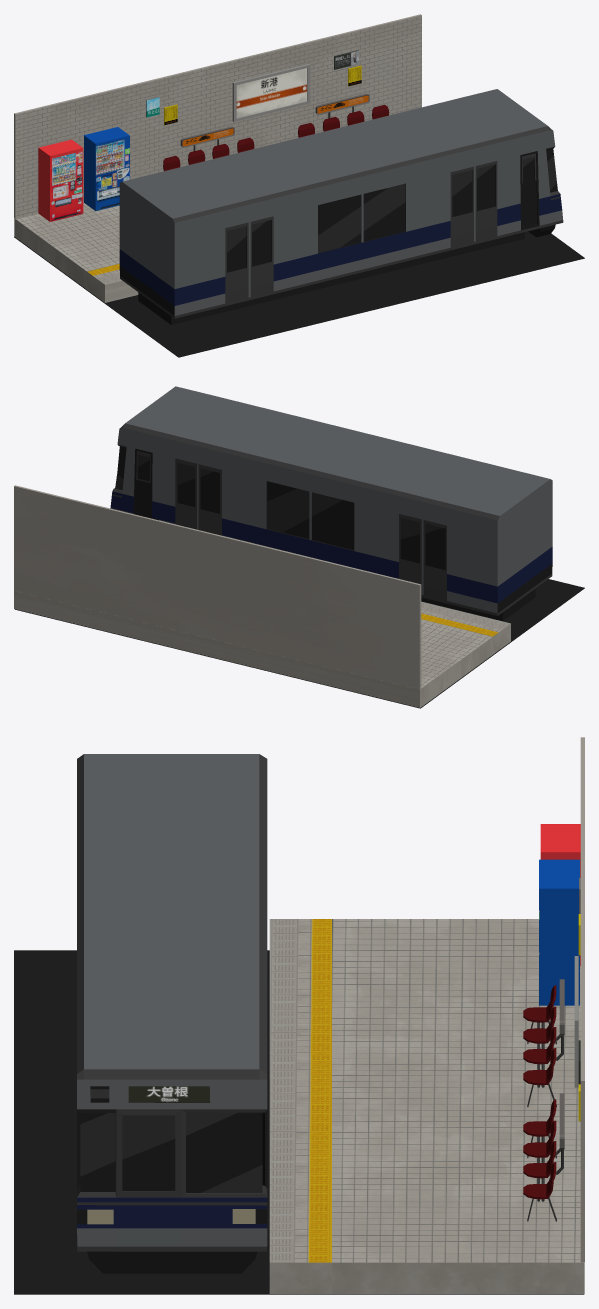
Rendered from train 09.fbx.
The picture shows the model from 3 angles, top to bottom: view 1: azimuth 30°, elevation 25°; view 2: azimuth 150°, elevation 25°; view 3: azimuth 270°, elevation 25°; orthographic projection. The views are drawn at different scales.
Visible parts, largest first — view 1: Cube.014, Cube.017, Cube, Cube.006, vending01, vending02, Cube.025, Cube.015, Cube.022, Cube.011, Cube.013, Cube.024; view 2: Cube.014, Cube.017, Cube.006, Cube, Cube.015; view 3: Cube.006, Cube.014, Cube, vending02, Cube.016, Cube.017, Cube.011, Cube.022, vending01.
Part boxes in pixels (x1,y1,x2,y2): Cube.014: (119,89,563,318); Cube.017: (14,14,421,218); Cube: (14,231,584,357); Cube.006: (14,202,138,302); vending01: (38,139,83,221); vending02: (84,127,129,211); Cube.025: (232,64,310,121); Cube.015: (138,232,524,324); Cube.022: (163,137,254,171); Cube.011: (298,104,389,137); Cube.013: (315,93,369,118); Cube.024: (180,126,234,150); Cube.014: (110,386,552,615); Cube.017: (14,485,421,689); Cube.006: (14,591,510,707); Cube: (15,579,584,708); Cube.015: (421,588,535,620); Cube.006: (269,919,584,1293); Cube.014: (77,754,267,1251); Cube: (14,950,584,1294); vending02: (539,859,579,1005); Cube.016: (87,1251,257,1273); Cube.017: (580,737,584,1262); Cube.011: (523,1099,556,1221); Cube.022: (523,985,556,1107); vending01: (540,824,580,966).
Size of the model in its own units: 37884 by 10992 by 26572.
